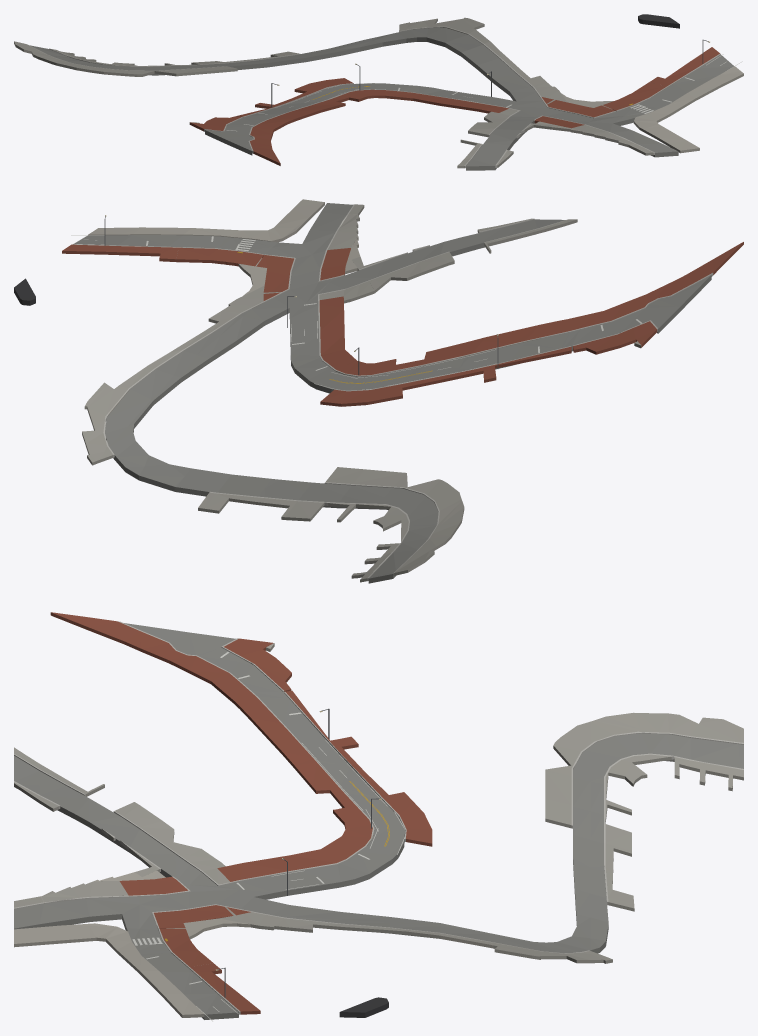
3 renders of one model, top to bottom at view 1: azimuth 30°, elevation 25°; view 2: azimuth 150°, elevation 25°; view 3: azimuth 270°, elevation 25°, orthographic. The views are drawn at different scales.
Size of the model in its own units: 150 by 33.58 by 146.
